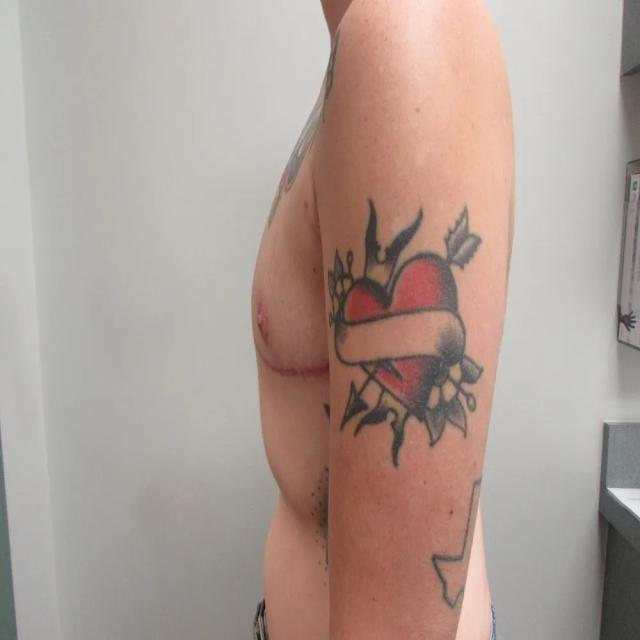Seno herido: (242, 102, 342, 403)
